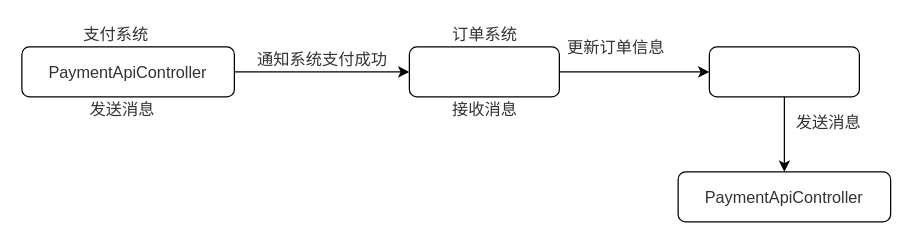
Image size: 913x244. Some labels were removed from this diagram. Each missing label, with the centre of its shape:
OrderReceiver: [483,71]
OrderServiceImpl: [783,71]
